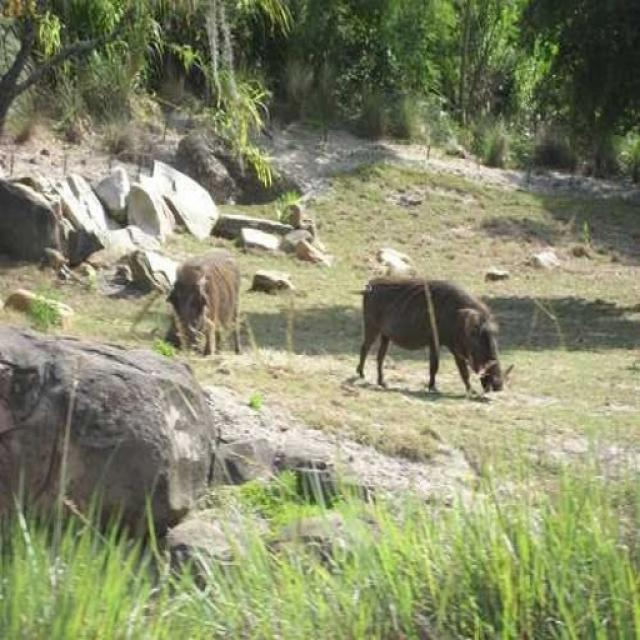pig: (313, 258, 511, 410), (150, 187, 262, 380)
